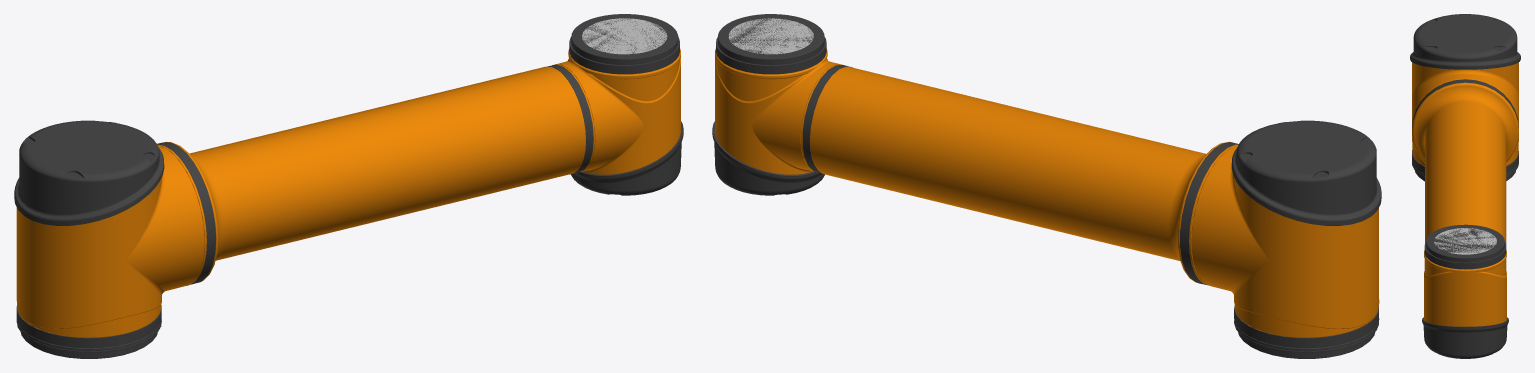
3 renders of one model, left to right at view 1: azimuth 30°, elevation 25°; view 2: azimuth 150°, elevation 25°; view 3: azimuth 270°, elevation 25°, orthographic. The views are drawn at different scales.
Visible parts, largest first — view 1: i10-FBXASC194FBXASC180FBXASC195FBXASC179FBXASC194FBXASC177FB, NONE, NONE_ncl1_1; view 2: i10-FBXASC194FBXASC180FBXASC195FBXASC179FBXASC194FBXASC177FB, NONE, NONE_ncl1_1; view 3: i10-FBXASC194FBXASC180FBXASC195FBXASC179FBXASC194FBXASC177FB, NONE_ncl1_1, NONE.
Part boxes in pixels (box(x1,y1,x2,y2)): i10-FBXASC194FBXASC180FBXASC195FBXASC179FBXASC194FBXASC177FB: box(157, 64, 595, 285); NONE: box(14, 120, 204, 358); NONE_ncl1_1: box(552, 14, 683, 195); i10-FBXASC194FBXASC180FBXASC195FBXASC179FBXASC194FBXASC177FB: box(801, 64, 1238, 285); NONE: box(1191, 120, 1381, 358); NONE_ncl1_1: box(712, 14, 840, 195); i10-FBXASC194FBXASC180FBXASC195FBXASC179FBXASC194FBXASC177FB: box(1412, 78, 1518, 243); NONE_ncl1_1: box(1422, 224, 1508, 358); NONE: box(1410, 14, 1520, 181).
Size of the model in its own units: 0.7872 by 0.157 by 0.211.
